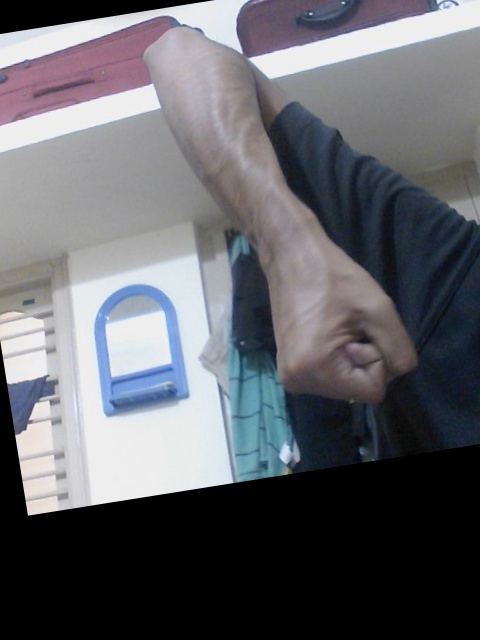hand: (261, 231, 422, 408)
